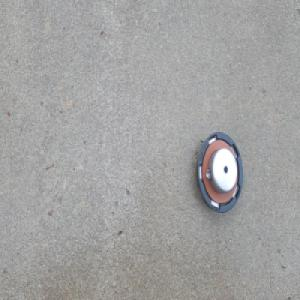FuelCap: (195, 129, 243, 213)
